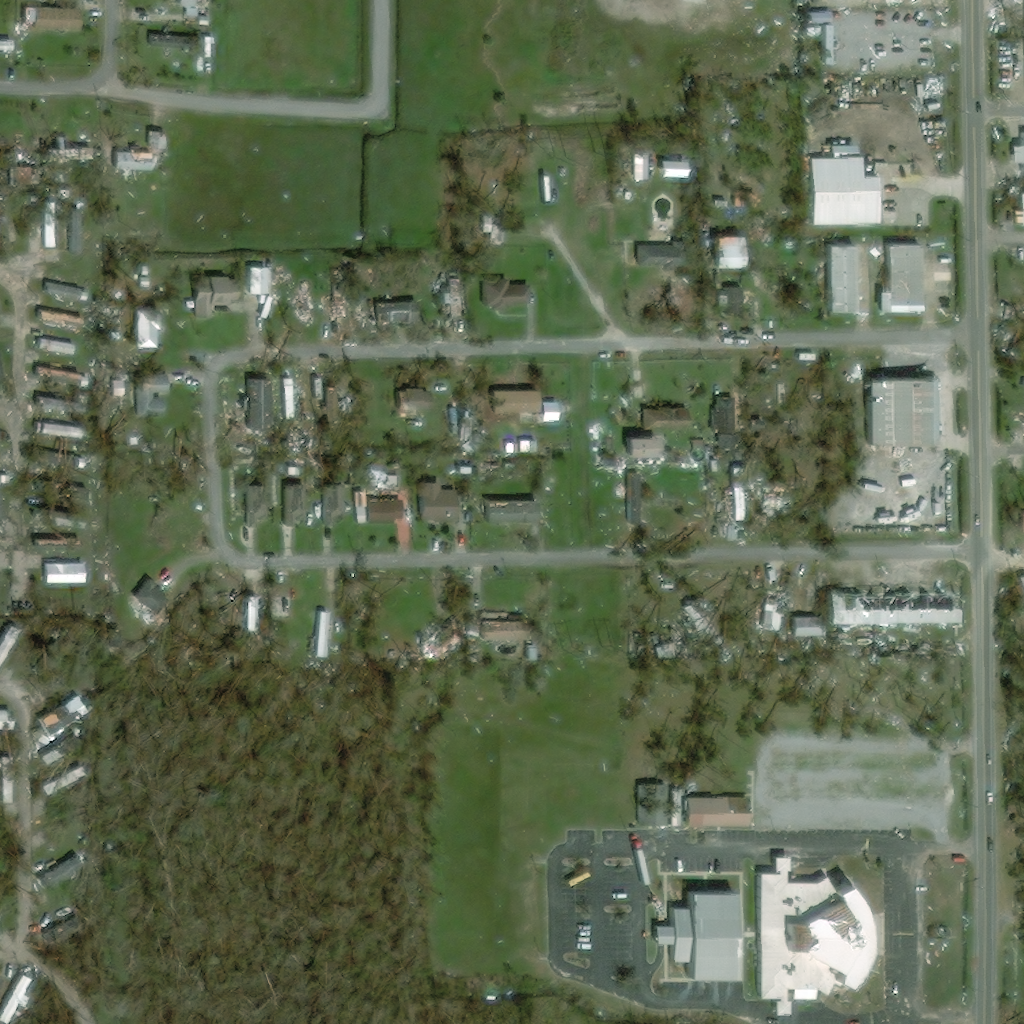destroyed: (420, 620, 459, 659), (723, 468, 744, 522), (715, 237, 743, 268), (768, 497, 805, 511), (331, 277, 340, 317), (305, 279, 314, 313), (637, 386, 647, 402), (280, 270, 290, 277), (201, 0, 207, 6), (288, 278, 292, 285)
major_damage: (755, 857, 882, 1016), (863, 378, 941, 448), (825, 591, 958, 624), (466, 610, 525, 652), (32, 697, 81, 739), (710, 396, 736, 473), (236, 379, 272, 433), (356, 490, 405, 527), (50, 726, 100, 762), (111, 147, 165, 179), (23, 7, 85, 32), (681, 599, 715, 639), (35, 479, 93, 502), (488, 501, 542, 525), (32, 449, 89, 470), (639, 786, 668, 825), (40, 396, 87, 418), (35, 200, 56, 248), (37, 368, 85, 389), (40, 311, 87, 331), (46, 280, 87, 301), (381, 303, 421, 324), (396, 387, 431, 410), (0, 756, 17, 801), (150, 34, 203, 48), (444, 279, 462, 318), (68, 209, 83, 255), (462, 406, 475, 451), (41, 340, 78, 355), (37, 540, 81, 550), (146, 130, 168, 150), (189, 10, 210, 27), (0, 712, 17, 733), (204, 36, 215, 58), (174, 0, 199, 9), (384, 474, 400, 488)
minor_damage: (650, 891, 734, 978), (878, 243, 922, 307), (113, 373, 175, 417), (31, 632, 77, 683), (684, 796, 751, 828), (191, 278, 241, 319), (42, 759, 96, 796), (807, 11, 840, 64), (36, 857, 85, 892), (41, 795, 87, 831), (489, 391, 543, 420), (134, 580, 170, 621), (323, 483, 349, 527), (245, 485, 271, 529), (34, 506, 86, 528), (642, 243, 689, 266), (38, 562, 85, 584), (247, 265, 275, 301), (139, 311, 162, 354), (287, 486, 309, 529), (0, 623, 21, 667), (38, 424, 85, 440), (717, 290, 742, 317), (628, 472, 640, 520), (670, 790, 685, 826), (654, 160, 682, 177), (285, 375, 296, 416), (639, 152, 651, 181), (0, 41, 15, 52), (1018, 196, 1023, 228)
no_damage: (806, 143, 878, 224), (828, 244, 856, 312), (483, 278, 531, 311), (0, 971, 33, 1019), (423, 483, 460, 523), (643, 409, 691, 430), (623, 436, 662, 458), (315, 613, 330, 660), (1009, 132, 1023, 166), (0, 351, 8, 385), (143, 278, 154, 288), (712, 519, 719, 532), (145, 269, 153, 275)
unclassified: (263, 596, 295, 620), (0, 900, 14, 932), (0, 482, 6, 521), (0, 571, 4, 606)
